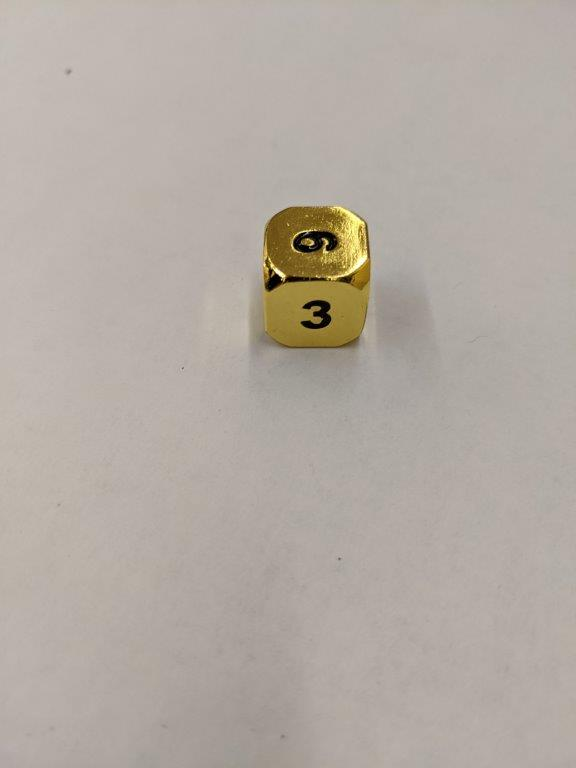d6-6: (261, 203, 370, 349)
